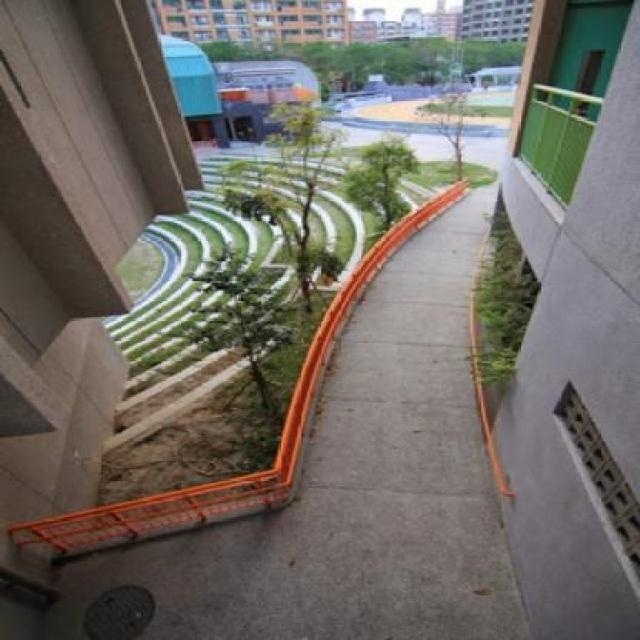stair: (88, 157, 434, 463)
